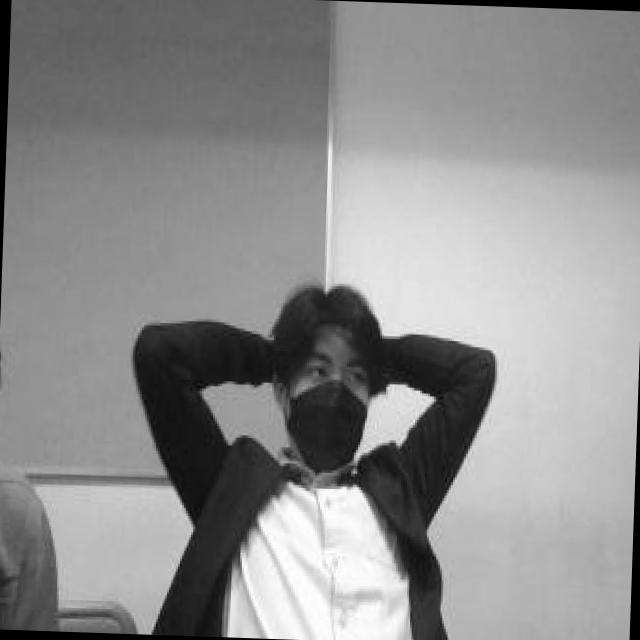Focused: (289, 316, 378, 461)
